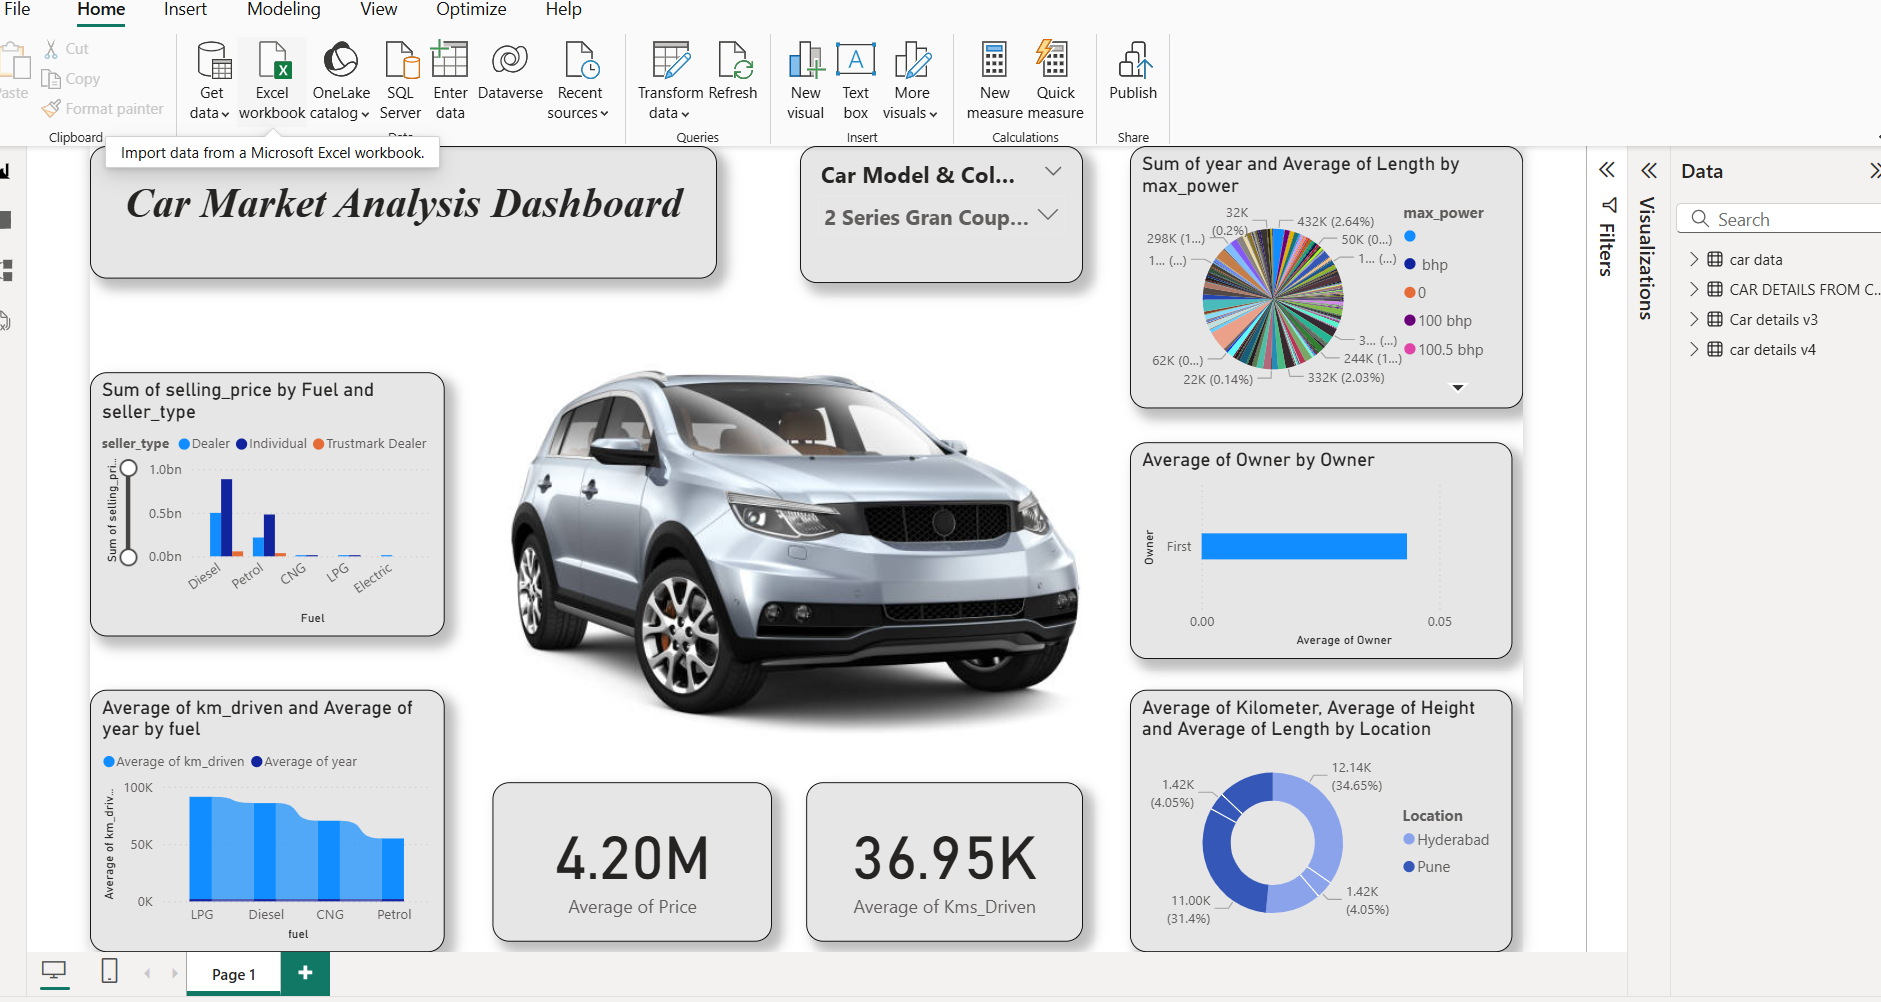

What the dashboard file says about the page in this screenshot:
{"tool":"powerbi","page":{"name":"Page 1","canvas":[1280,720],"ordinal":0},"visuals":[{"type":"card","fields":{"Values":["Avg(car details v4.Price)"]},"box":[359.5,568.1,249.7,142.7],"z":0},{"type":"card","fields":{"Values":["Avg(car data.Kms_Driven)"]},"box":[639.5,568.1,247,142.7],"z":1000},{"type":"clusteredColumnChart","fields":{"Category":["CAR DETAILS FROM CAR DEKHO.fuel"],"Series":["CAR DETAILS FROM CAR DEKHO.seller_type"],"Y":["Sum(CAR DETAILS FROM CAR DEKHO.selling_price)"]},"box":[0,201.7,317,236],"z":2000},{"type":"ribbonChart","fields":{"Category":["Car details v3.fuel"],"Y":["Avg(Car details v3.km_driven)","Avg(Car details v3.year)"]},"box":[0,485.8,317,234.6],"z":3000},{"type":"pieChart","fields":{"Series":["Car details v3.max_power"],"Y":["Sum(Car details v3.year)"]},"box":[928.7,0,351.3,234.6],"z":4000},{"type":"donutChart","fields":{"Category":["car details v4.Location"],"Y":["Avg(car details v4.Kilometer)","Avg(car details v4.Height)","Avg(car details v4.Length)"]},"box":[929,485.8,341.7,234.6],"z":5000},{"type":"slicer","fields":{"Values":["car details v4.Model","car details v4.Color"]},"box":[634,0,252.5,122.1],"z":6000},{"type":"clusteredBarChart","fields":{"Y":["Avg(car data.Owner)"],"Category":["car details v4.Owner"]},"box":[929,264.8,341.7,193.5],"z":7000},{"type":"textbox","box":[0,0,559.9,118],"z":8000}]}

Visuals, with their boxes on the page's 1280x720 design canvas (x1, y1, x2, y2). These are canvas units, not pixel positions in the 1881x1002 screenshot, which may show the page scaled, cropped or inside an application window:
card - Avg(car details v4.Price): region(360, 568, 609, 711)
card - Avg(car data.Kms_Driven): region(640, 568, 886, 711)
clusteredColumnChart - CAR DETAILS FROM CAR DEKHO.fuel x CAR DETAILS FROM CAR DEKHO.seller_type: region(0, 202, 317, 438)
ribbonChart - Car details v3.fuel x Avg(Car details v3.km_driven): region(0, 486, 317, 720)
pieChart - Car details v3.max_power x Sum(Car details v3.year): region(929, 0, 1280, 235)
donutChart - car details v4.Location x Avg(car details v4.Kilometer): region(929, 486, 1271, 720)
slicer - car details v4.Model x car details v4.Color: region(634, 0, 886, 122)
clusteredBarChart - Avg(car data.Owner) x car details v4.Owner: region(929, 265, 1271, 458)
textbox: region(0, 0, 560, 118)
